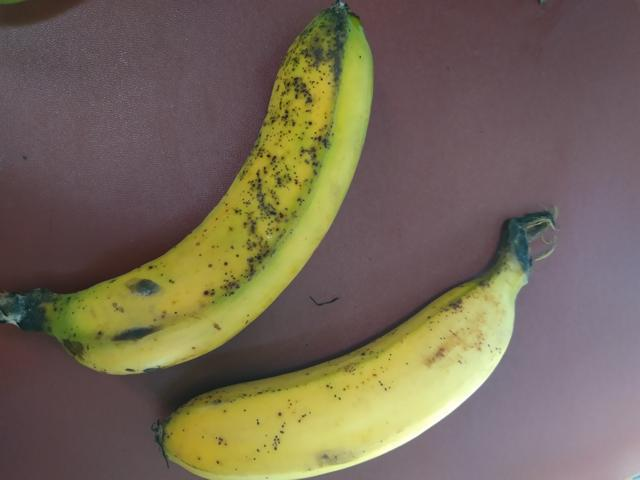ripe: (54, 13, 385, 370), (162, 280, 551, 479)
